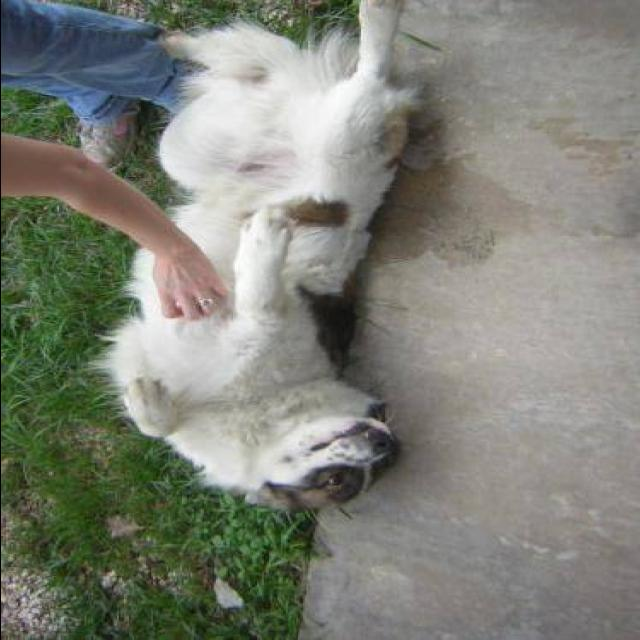dog: (81, 10, 469, 558)
